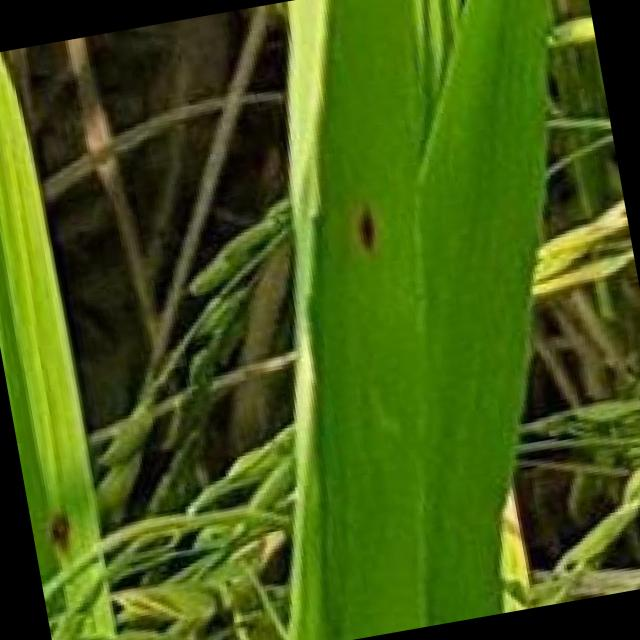Rice_Brownspot: (334, 180, 388, 266)
